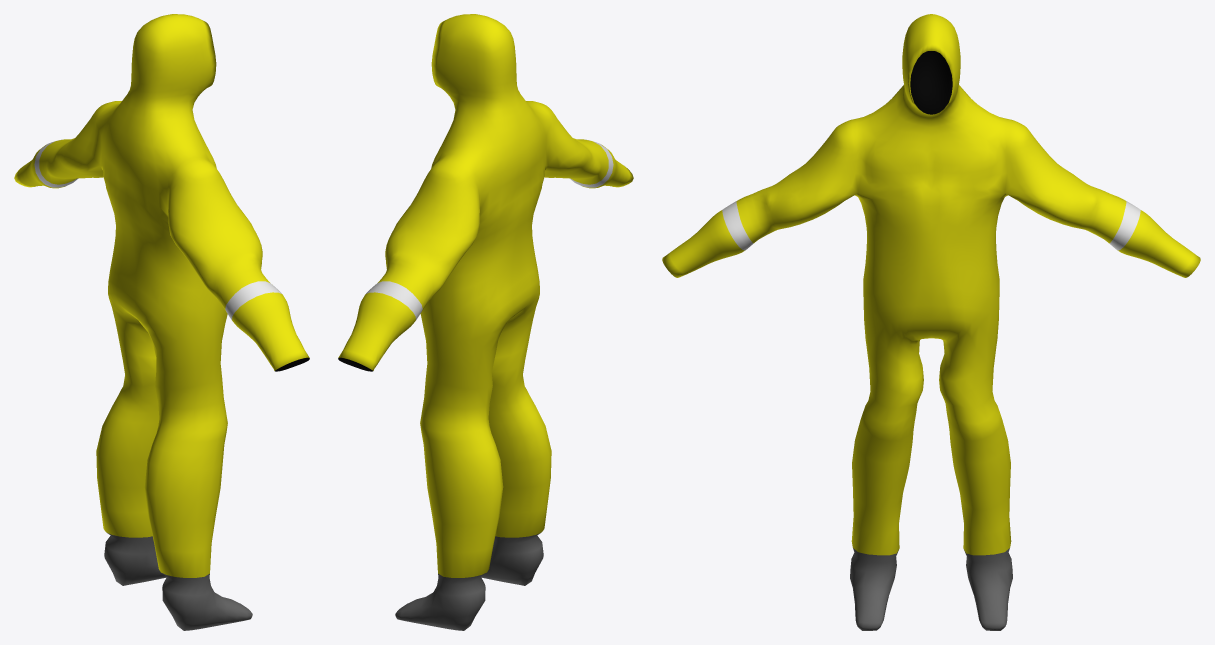
File: hazmat.fbx
3 renders of one model, left to right at view 1: azimuth 30°, elevation 25°; view 2: azimuth 150°, elevation 25°; view 3: azimuth 270°, elevation 25°, orthographic.
Visible parts, largest first — view 1: Cube; view 2: Cube; view 3: Cube.
Boxes of the visible parts, x1,y1,x2,y2 form: Cube: (14,14,309,630); Cube: (338,14,633,630); Cube: (662,14,1200,630).
Bounding box in the file's own units: 105 × 592 × 490.
